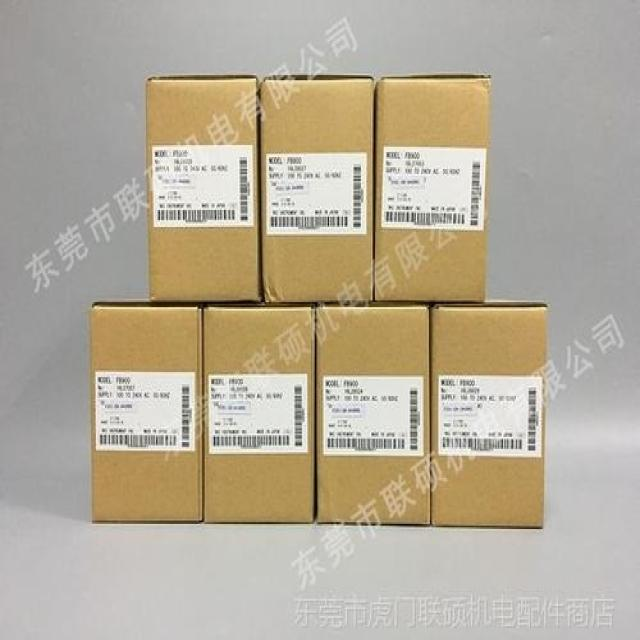box: (431, 300, 548, 527), (147, 73, 262, 302), (259, 75, 374, 304), (374, 75, 490, 302), (91, 300, 204, 522), (317, 305, 430, 526), (204, 307, 315, 524)
